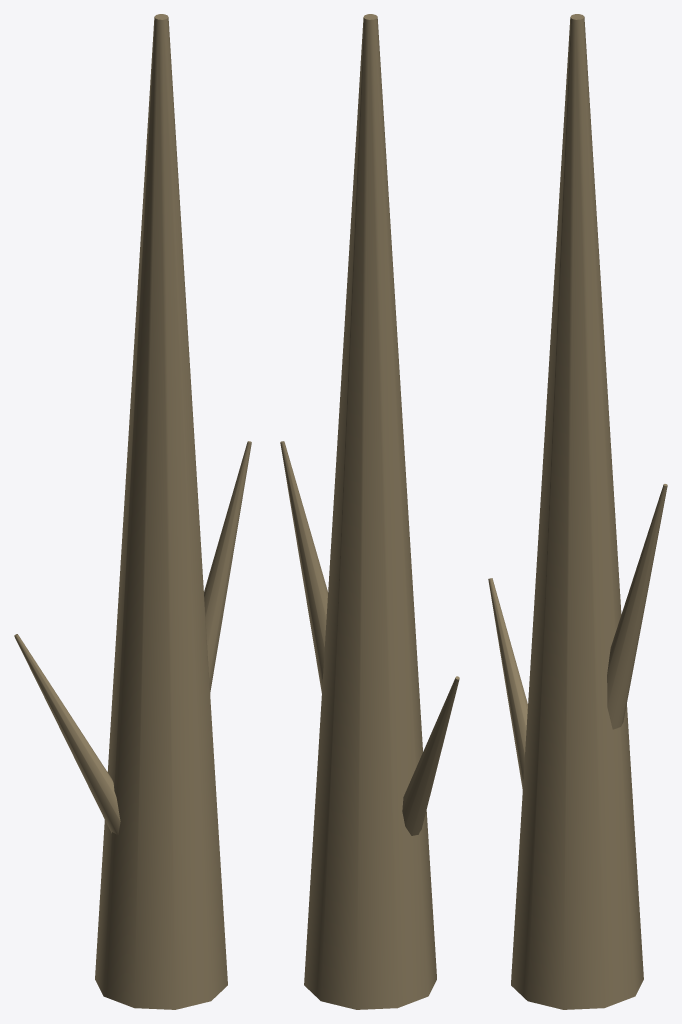
The model's file is Tronco_chico_02.fbx.
3 renders of one model, left to right at view 1: azimuth 30°, elevation 25°; view 2: azimuth 150°, elevation 25°; view 3: azimuth 330°, elevation 25°, orthographic.
Visible parts, largest first — view 1: tronco_chico; view 2: tronco_chico; view 3: tronco_chico.
Part boxes in pixels (x1=…): tronco_chico: x1=14, y1=14, x2=251, y2=1009; tronco_chico: x1=280, y1=14, x2=459, y2=1009; tronco_chico: x1=488, y1=14, x2=667, y2=1009.
Size of the model in its own units: 2.01 by 8.93 by 1.07.
